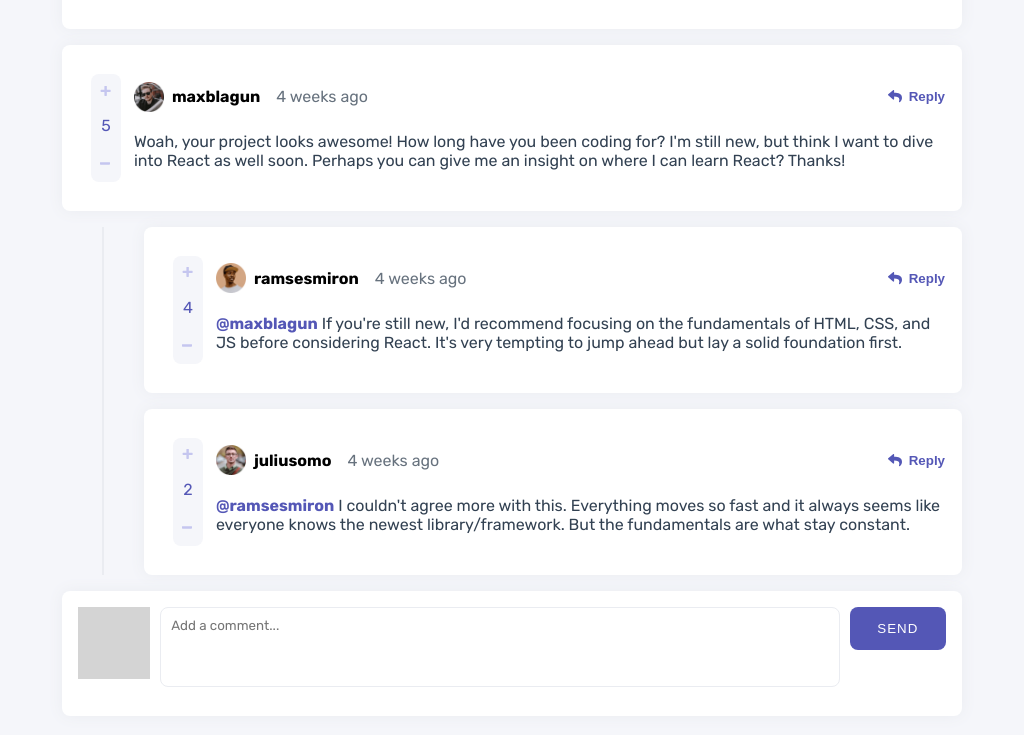
it: <CommentForm/> › creates new root comment
(page scrolled)
Step 1. Type "Lorem ipsum dolor sit amet" into the text box → (500, 647), box [160,607,840,687]
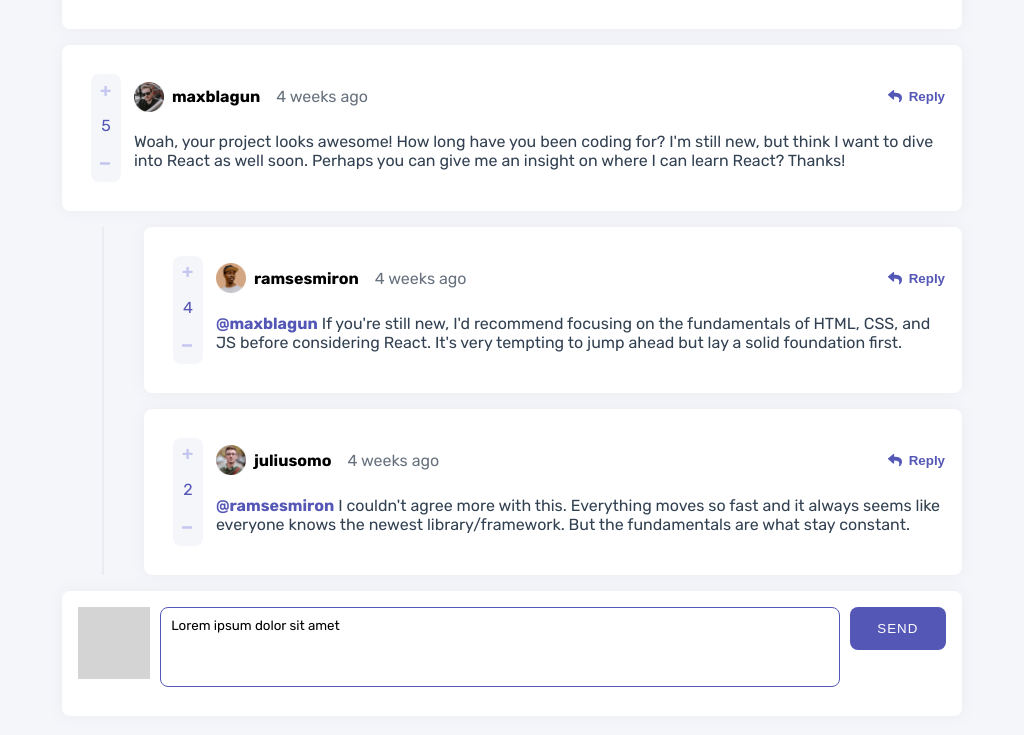
Step 2. Click the button "Send" → (898, 629), box [850,607,946,650]
(page scrolled)
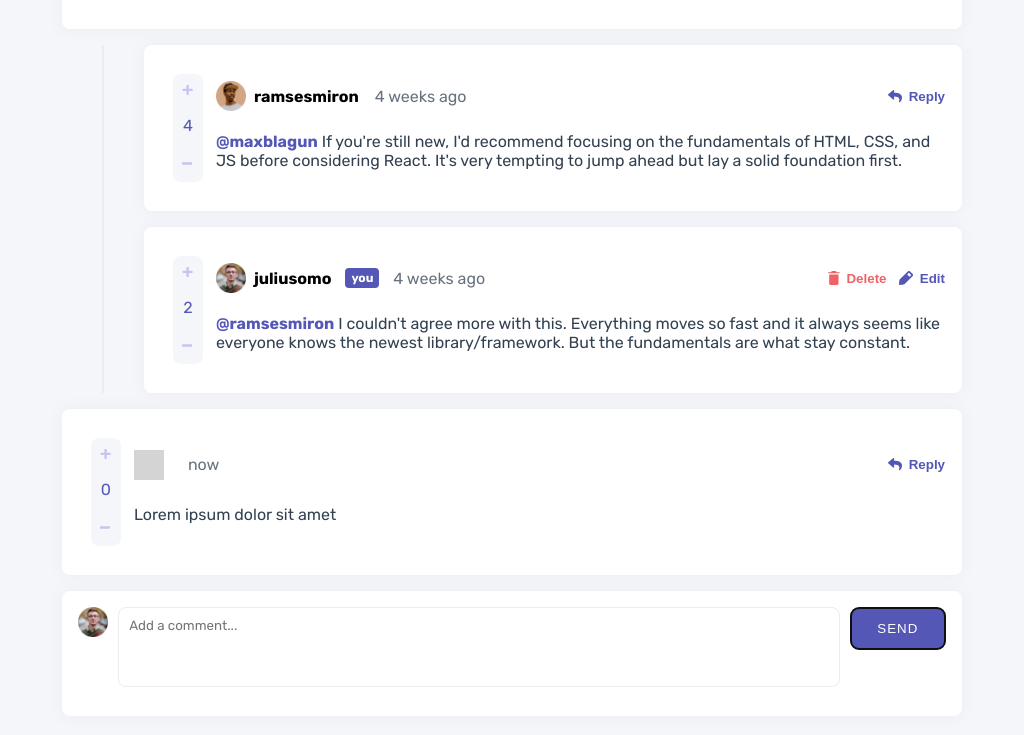
Now the text "Lorem ipsum dolor sit amet" is shown, box [134,505,336,524]
